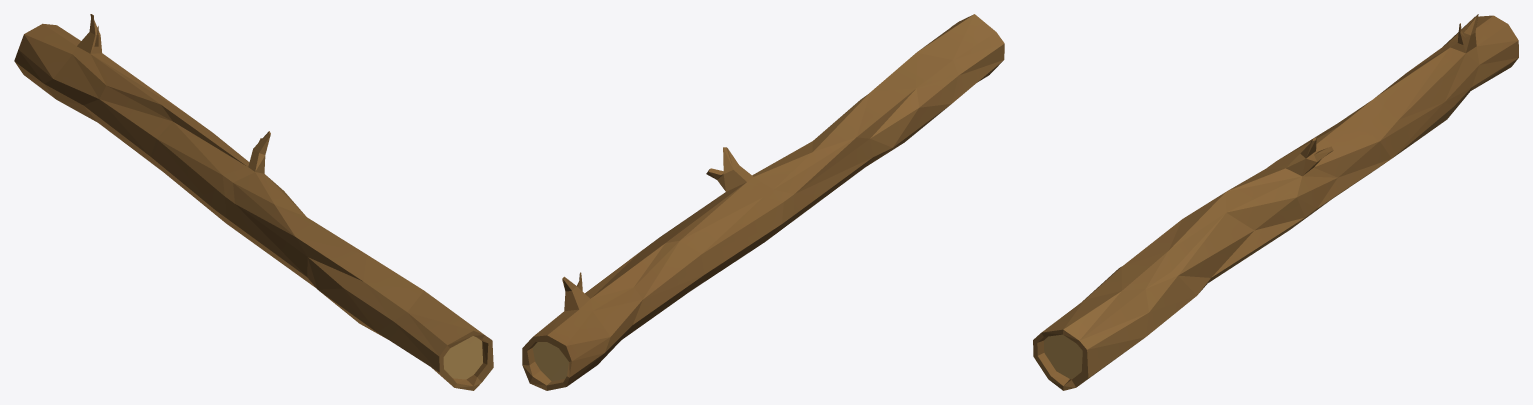
File: log_9.obj
3 renders of one model, left to right at view 1: azimuth 30°, elevation 25°; view 2: azimuth 150°, elevation 25°; view 3: azimuth 330°, elevation 25°, orthographic.
Visible parts, largest first — view 1: log_9_Material; view 2: log_9_Material; view 3: log_9_Material.
Boxes of the visible parts, box(x1,y1,x2,y2) form: log_9_Material: box(14, 14, 493, 390); log_9_Material: box(522, 14, 1004, 390); log_9_Material: box(1033, 14, 1518, 390).
Size of the model in its own units: 0.0759 by 0.0978 by 0.8571.
